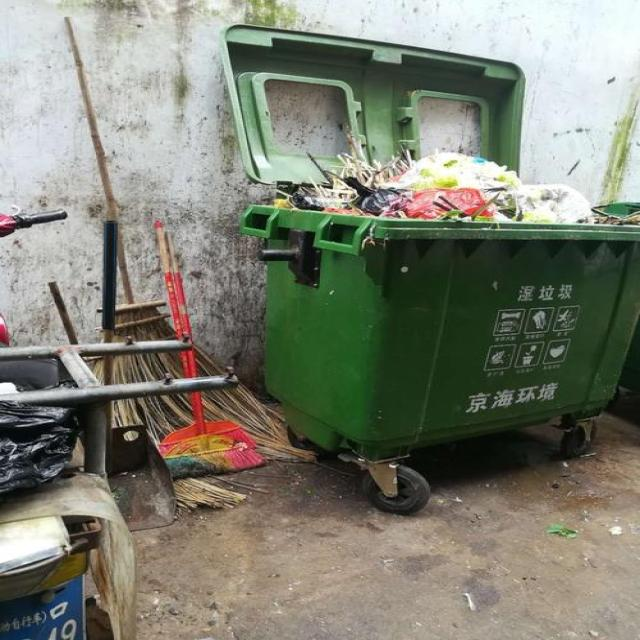overflow: (241, 152, 638, 458)
